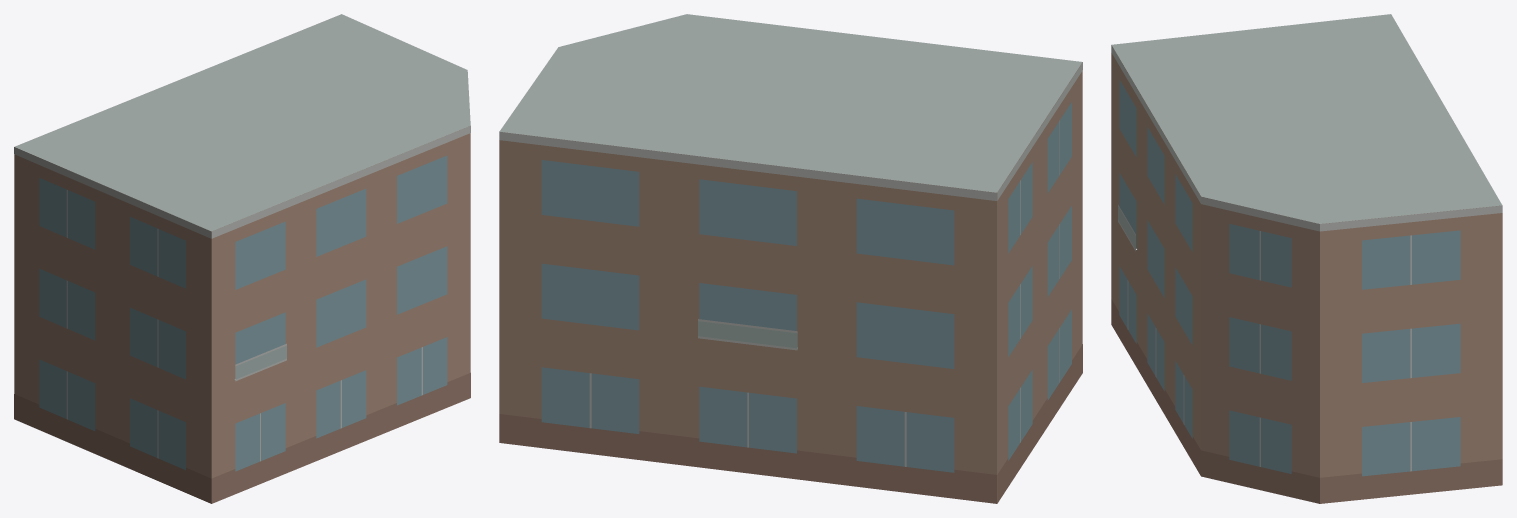
The model's file is survey-upis-32679131.glb.
The picture shows the model from 3 angles, left to right: view 1: azimuth 30°, elevation 25°; view 2: azimuth 150°, elevation 25°; view 3: azimuth 270°, elevation 25°; orthographic projection. The views are drawn at different scales.
Parts seen in each view (by area): view 1: survey-upis-32679131.tmp; view 2: survey-upis-32679131.tmp; view 3: survey-upis-32679131.tmp.
Part boxes in pixels (x1=…): survey-upis-32679131.tmp: x1=14, y1=14, x2=470, y2=503; survey-upis-32679131.tmp: x1=499, y1=14, x2=1082, y2=503; survey-upis-32679131.tmp: x1=1111, y1=14, x2=1502, y2=503.
Size of the model in its own units: 14.66 by 9.1 by 11.54.
